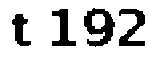1: (49, 6, 79, 51)
2: (118, 5, 148, 51)
9: (81, 7, 115, 50)
t: (10, 9, 36, 49)
